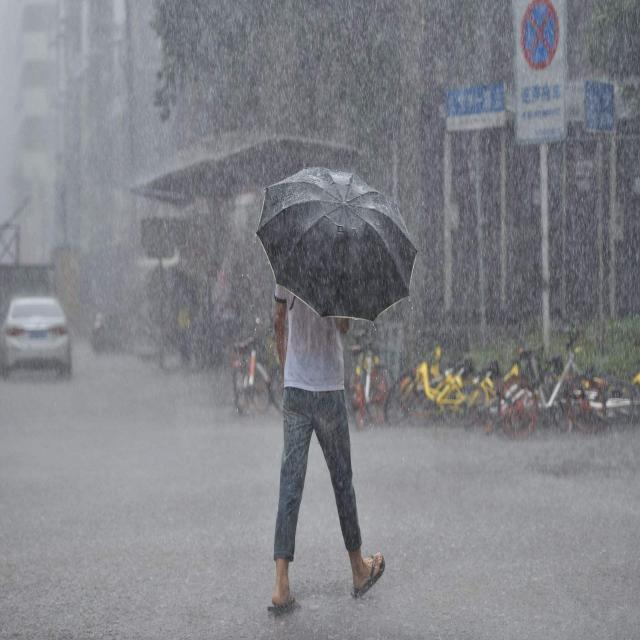car: (0, 297, 70, 379)
